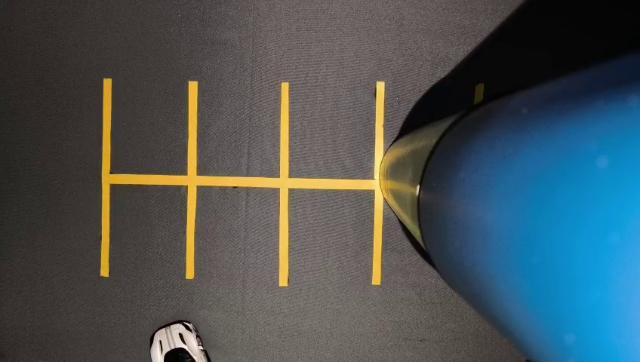toy_car: (135, 302, 237, 362)
